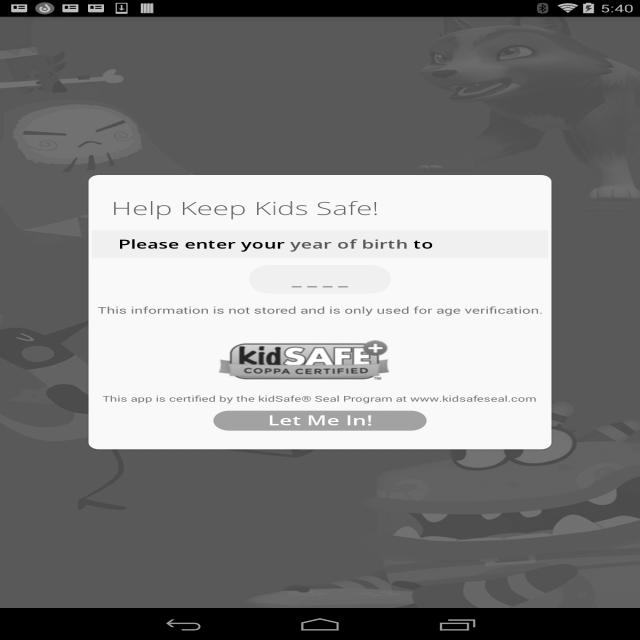Button: (208, 408, 439, 433)
ImageView: (215, 338, 398, 381)
TextView: (95, 300, 550, 319), (102, 194, 420, 219), (119, 235, 438, 255), (104, 393, 538, 404)
